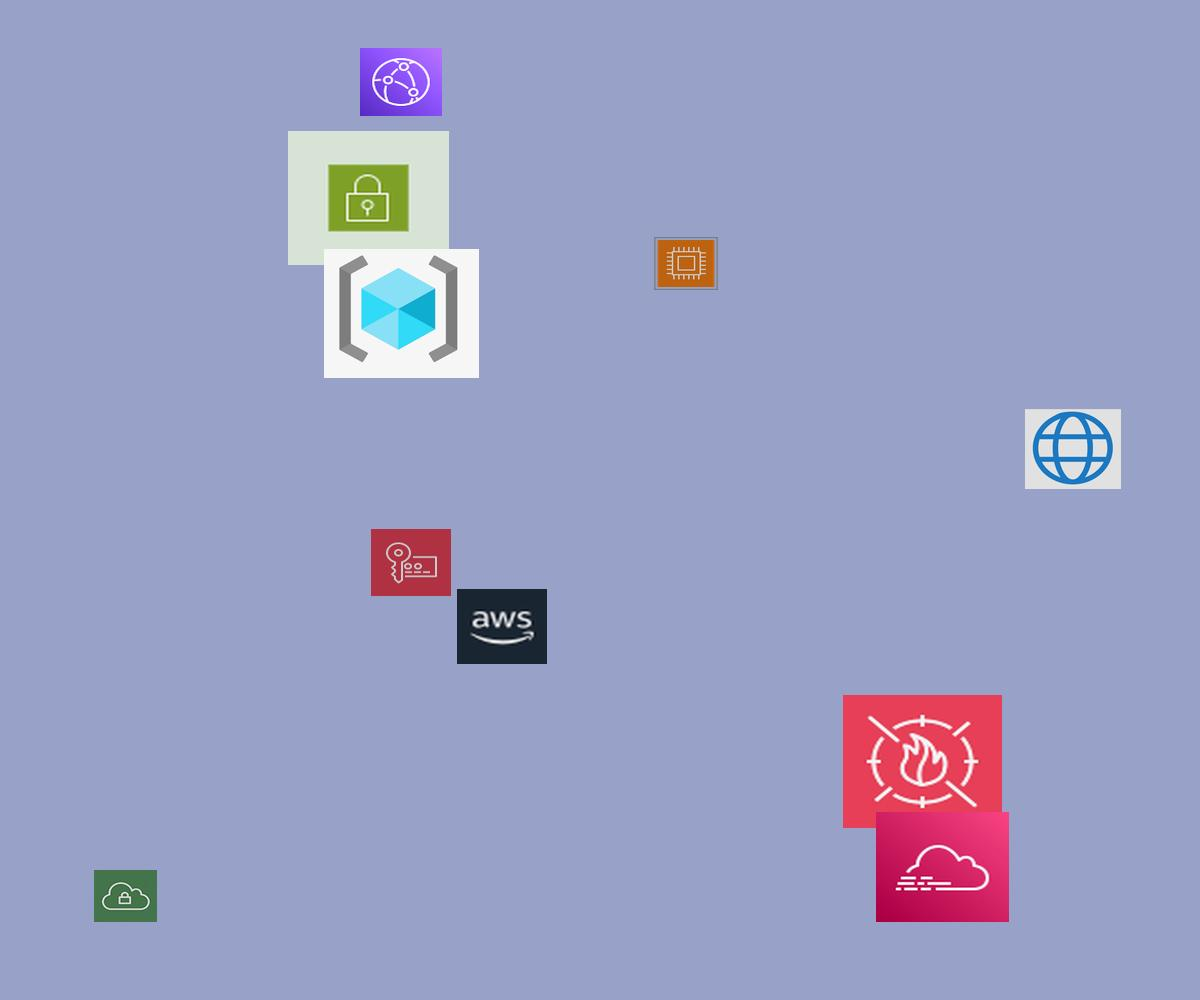AWS-Category_Compute: (654, 237, 718, 290)
AWS-Cloud-logo: (457, 589, 547, 664)
AWS-CloudFront: (360, 48, 442, 116)
AWS-CloudTrail: (876, 812, 1009, 922)
AWS-Key-Management-Service: (371, 529, 451, 596)
AWS-Private_vpc: (94, 870, 157, 922)
AWS-Public-subnet: (288, 131, 449, 265)
AWS-WAF: (843, 695, 1002, 828)
Azure_http: (1025, 409, 1121, 489)
Azure_resource_group: (324, 249, 479, 378)
